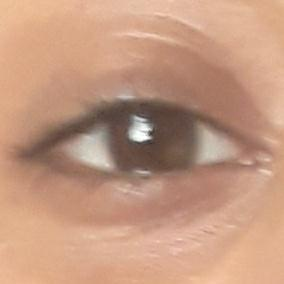open: (4, 77, 284, 231)
